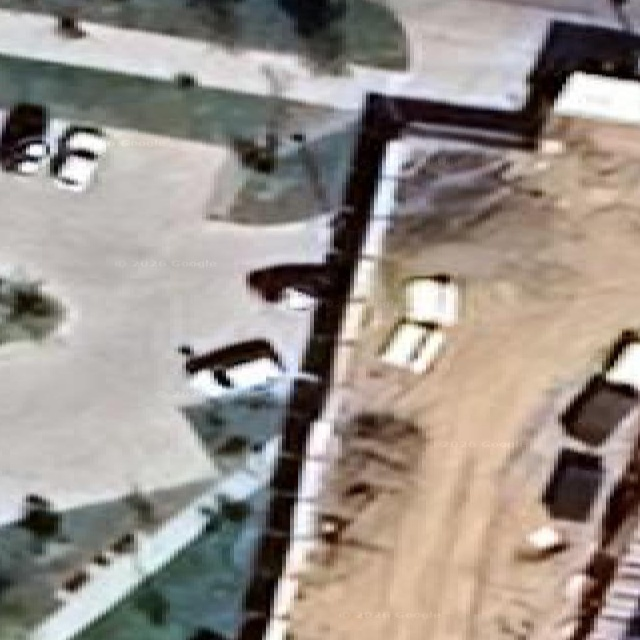car: (51, 125, 106, 191), (0, 103, 49, 174)
